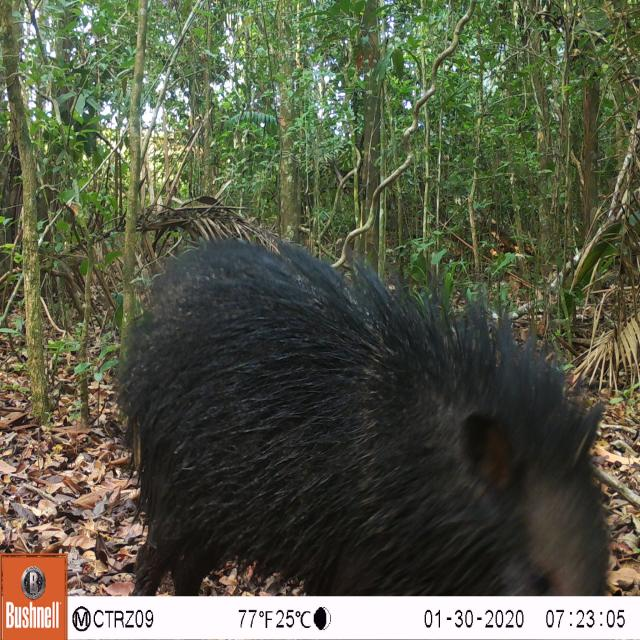Collared Peccary: (109, 221, 618, 595)
